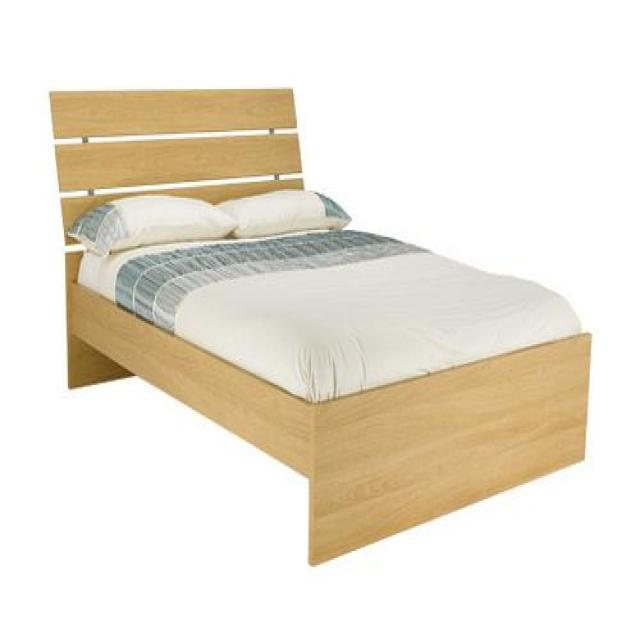bed: (45, 90, 593, 574)
